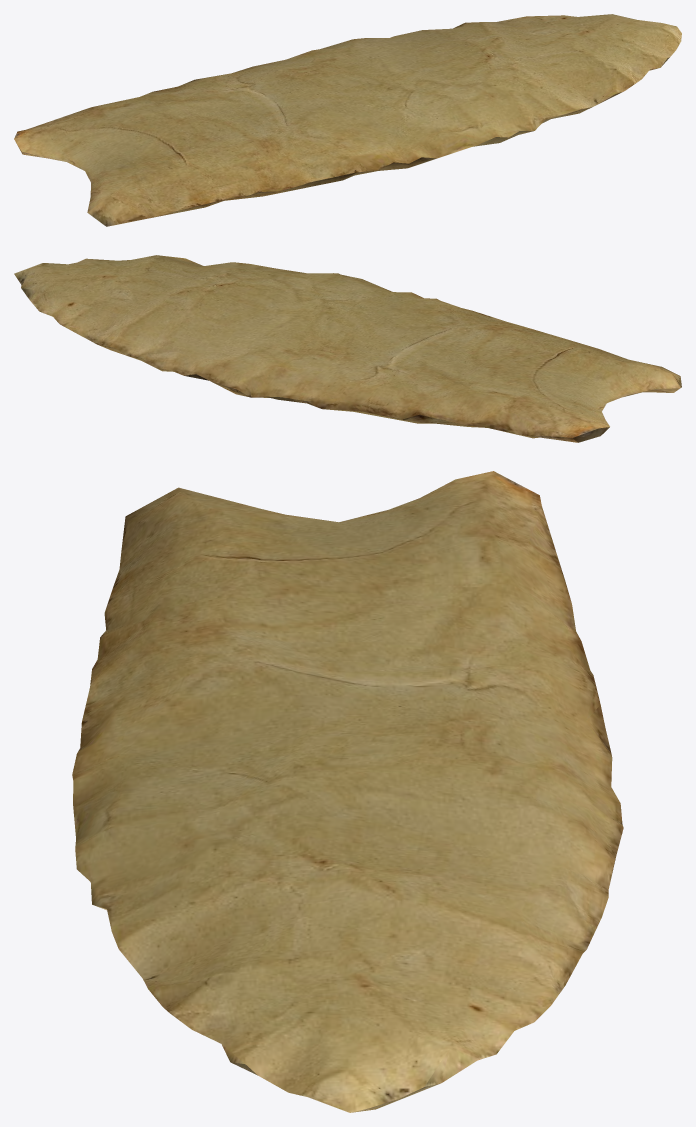
The model's file is clovis.glb.
The picture shows the model from 3 angles, top to bottom: view 1: azimuth 30°, elevation 25°; view 2: azimuth 150°, elevation 25°; view 3: azimuth 270°, elevation 25°; orthographic projection. The views are drawn at different scales.
Size of the model in its own units: 0.0847 by 0.00713 by 0.0326.
1 material, 1 textured.
